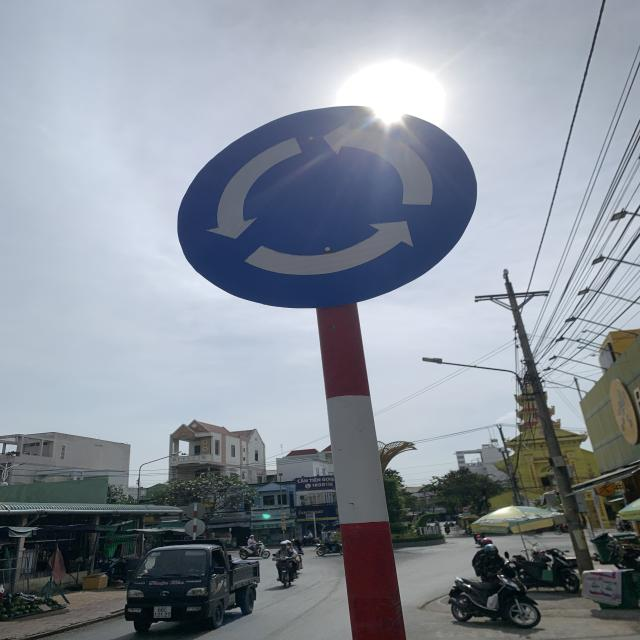Xe_Bus: (176, 106, 477, 312)
